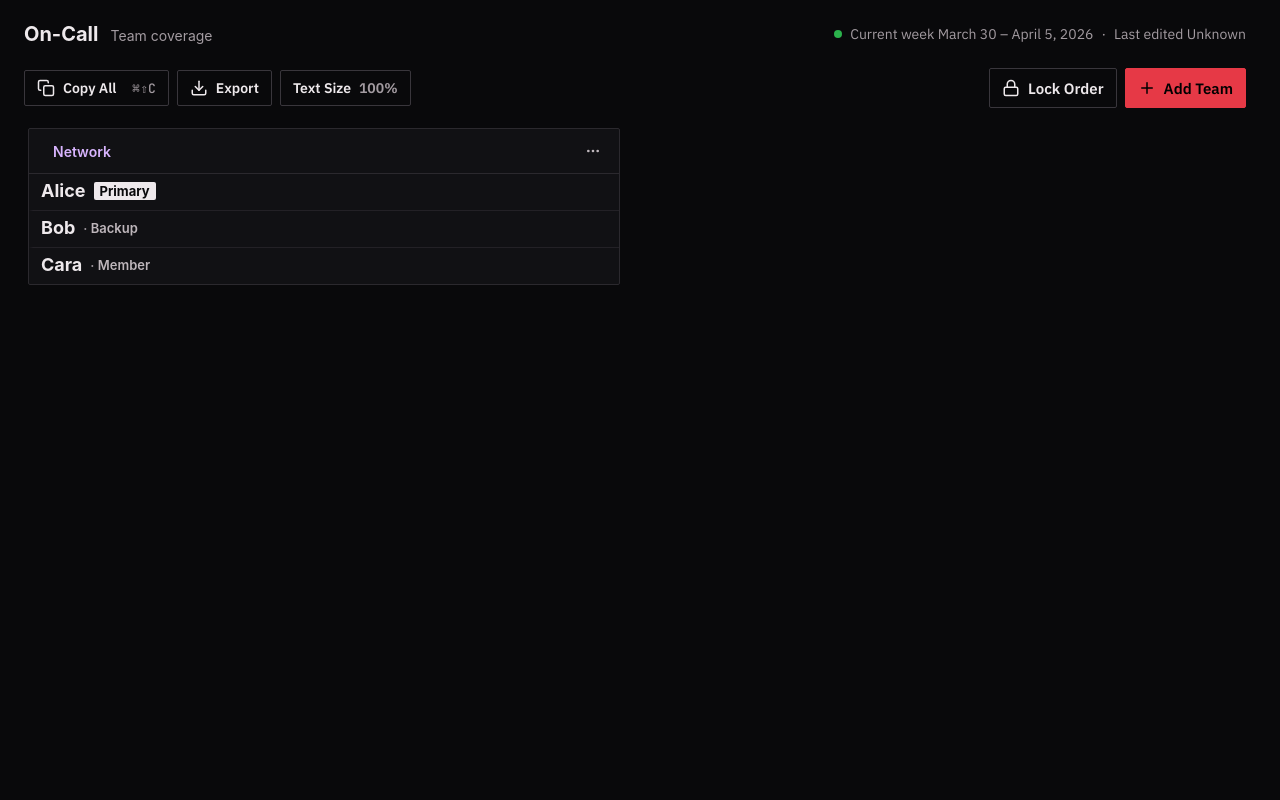
Scenario: PersonnelTab — Remove Team confirm › states how many members are removed and uses the danger action
Click the button named "Network Team Actions:". click: (593, 151)
box: [579, 137, 607, 165]
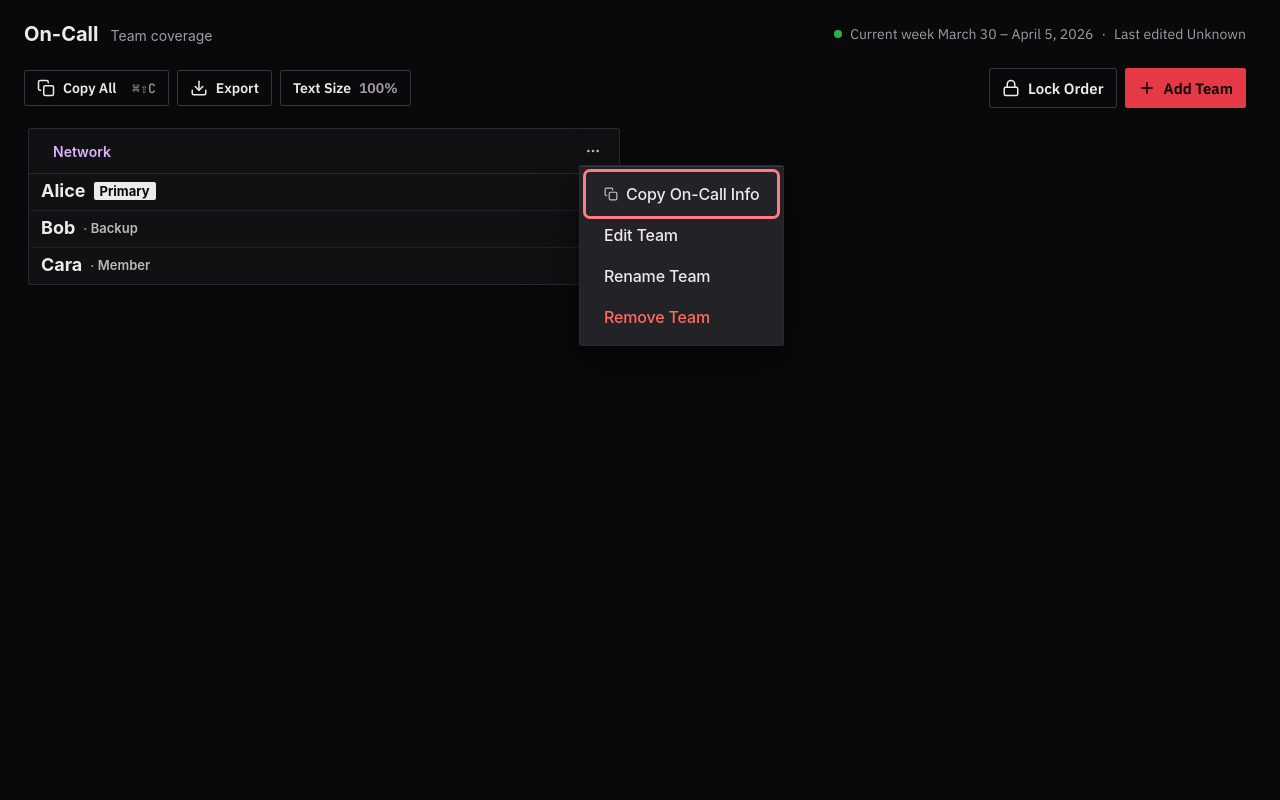
Click the menu item "Remove Team". click: (682, 317)
box: [588, 297, 776, 337]
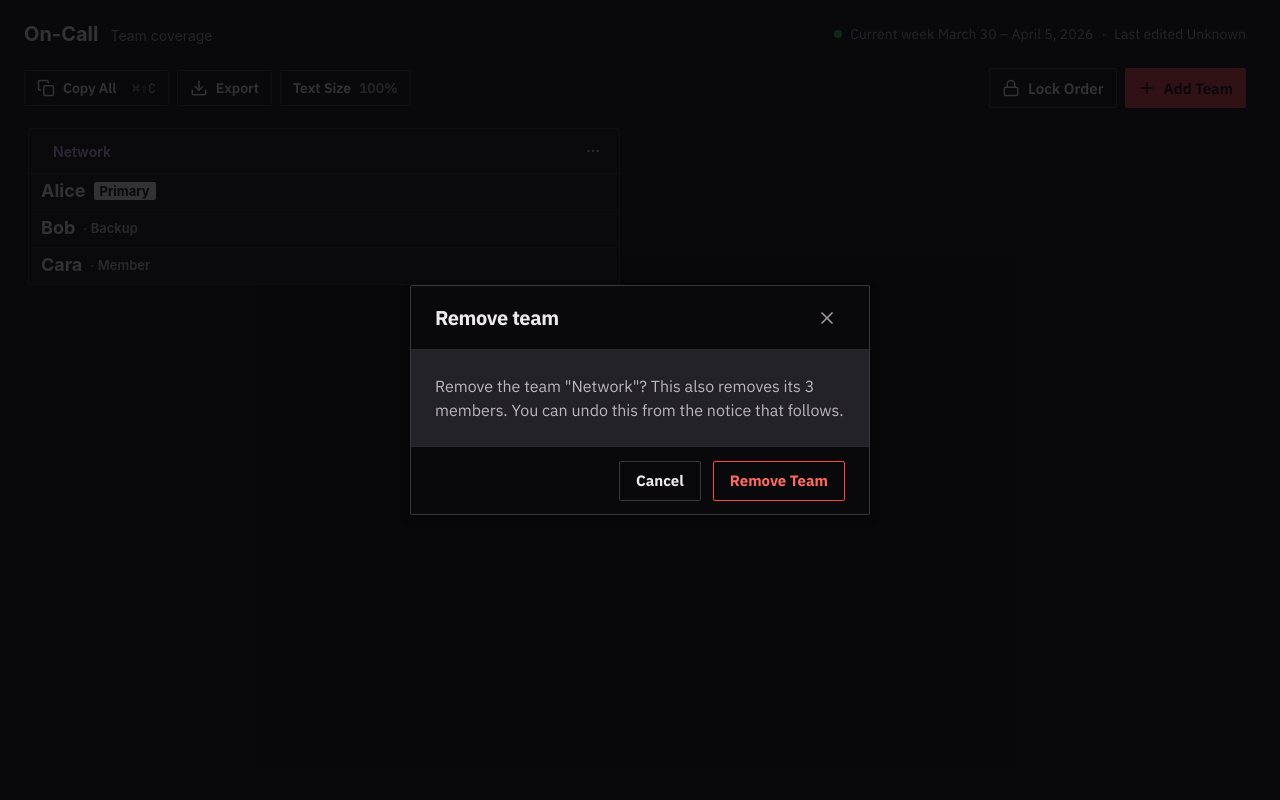
Expected: the dialog "Remove team" shows "Remove the team \"Network\"? This also removes its 3 members. You can undo this from the notice that follows.", [435, 376, 844, 420]
